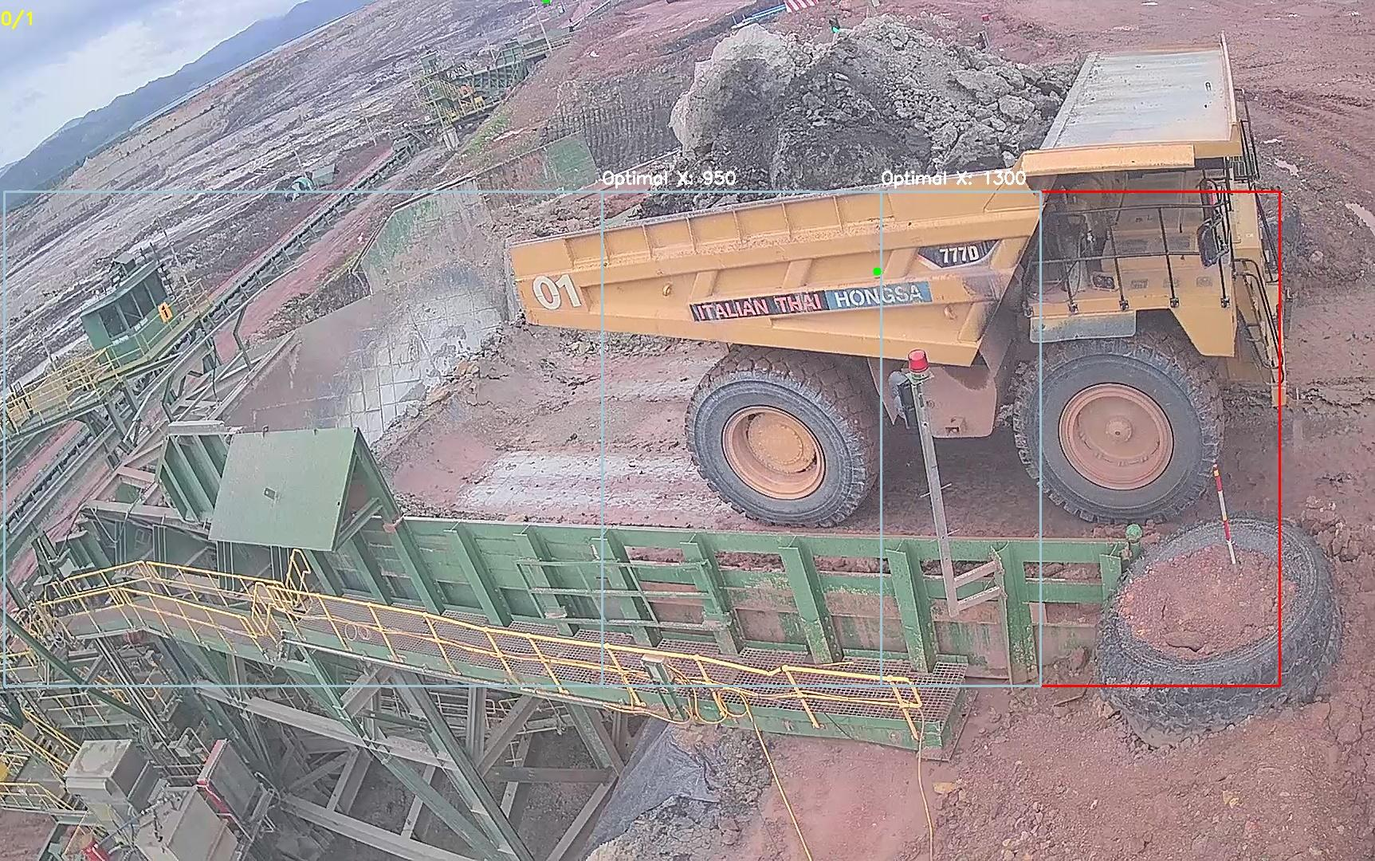company: (691, 276, 938, 331)
full_load: (670, 15, 1004, 210)
mining_truck: (502, 8, 1316, 540)
tail_number: (526, 256, 593, 327)
truck_size: (911, 230, 1001, 272)
